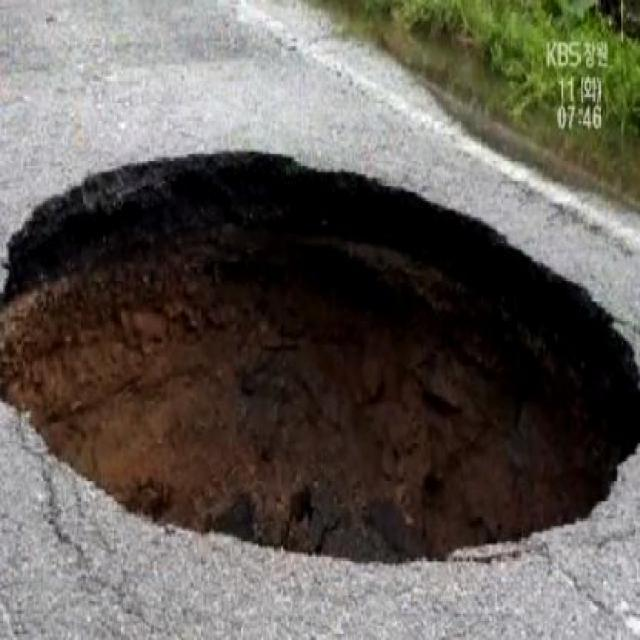Buraco: (0, 145, 640, 572)
